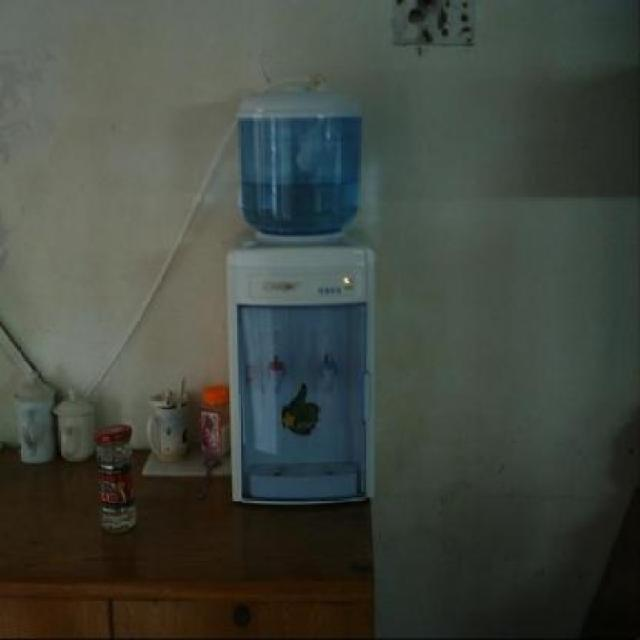cooler: (225, 86, 380, 521)
